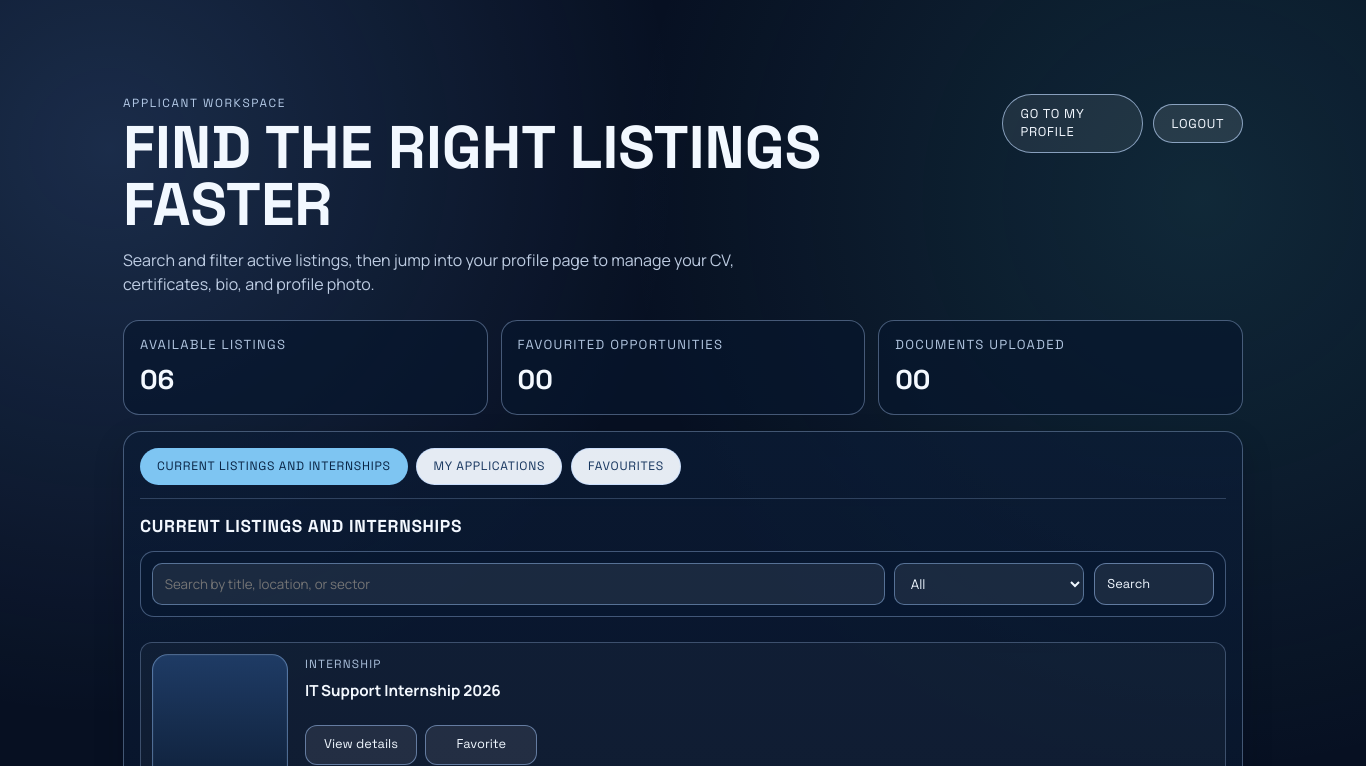
Test: Applicant search listings › restores the full approved listings list after clearing the search and resetting the filter
Type "electrical" into the search field with placeholder "Search by title, location, or sector" at (518, 584), box [152,563,885,605]
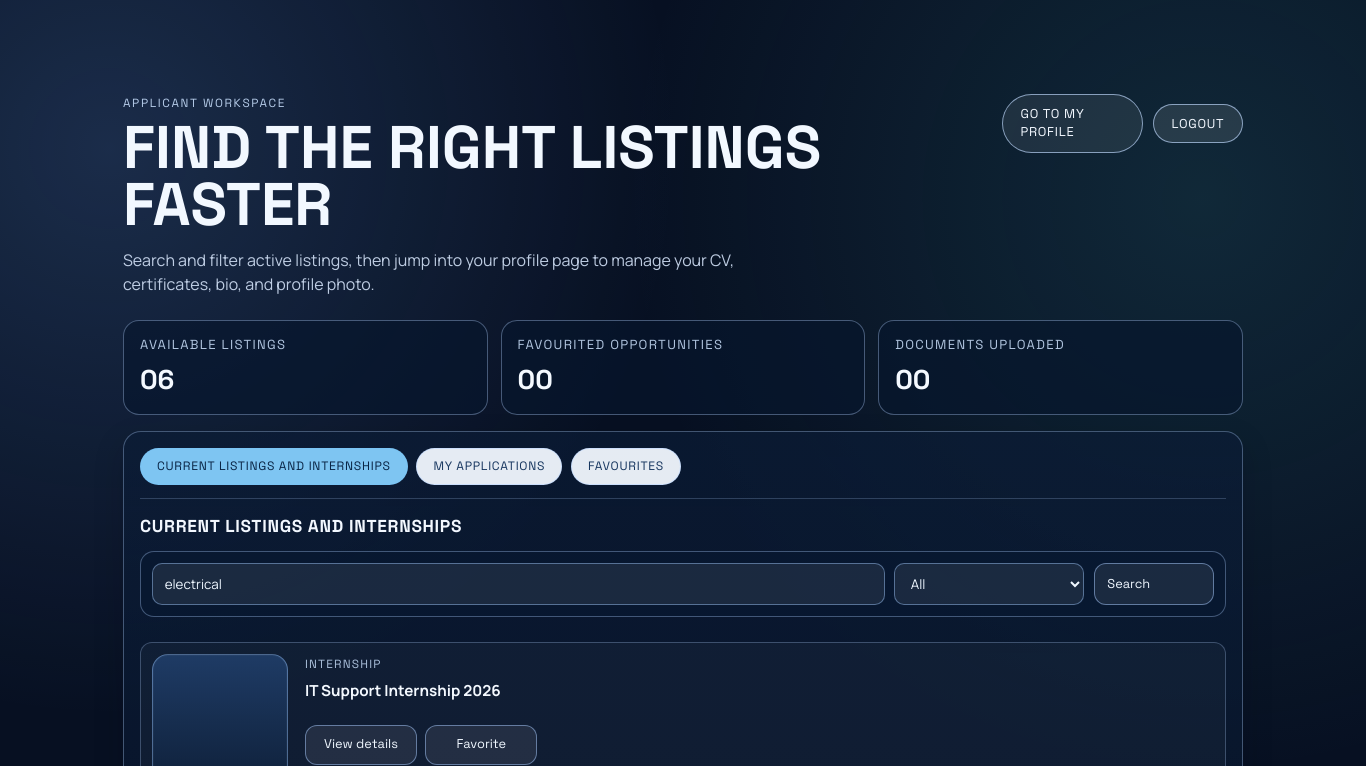
Select "Apprenticeship" in the dropdown named "Filter listing type" at (989, 584), box [894,563,1084,605]
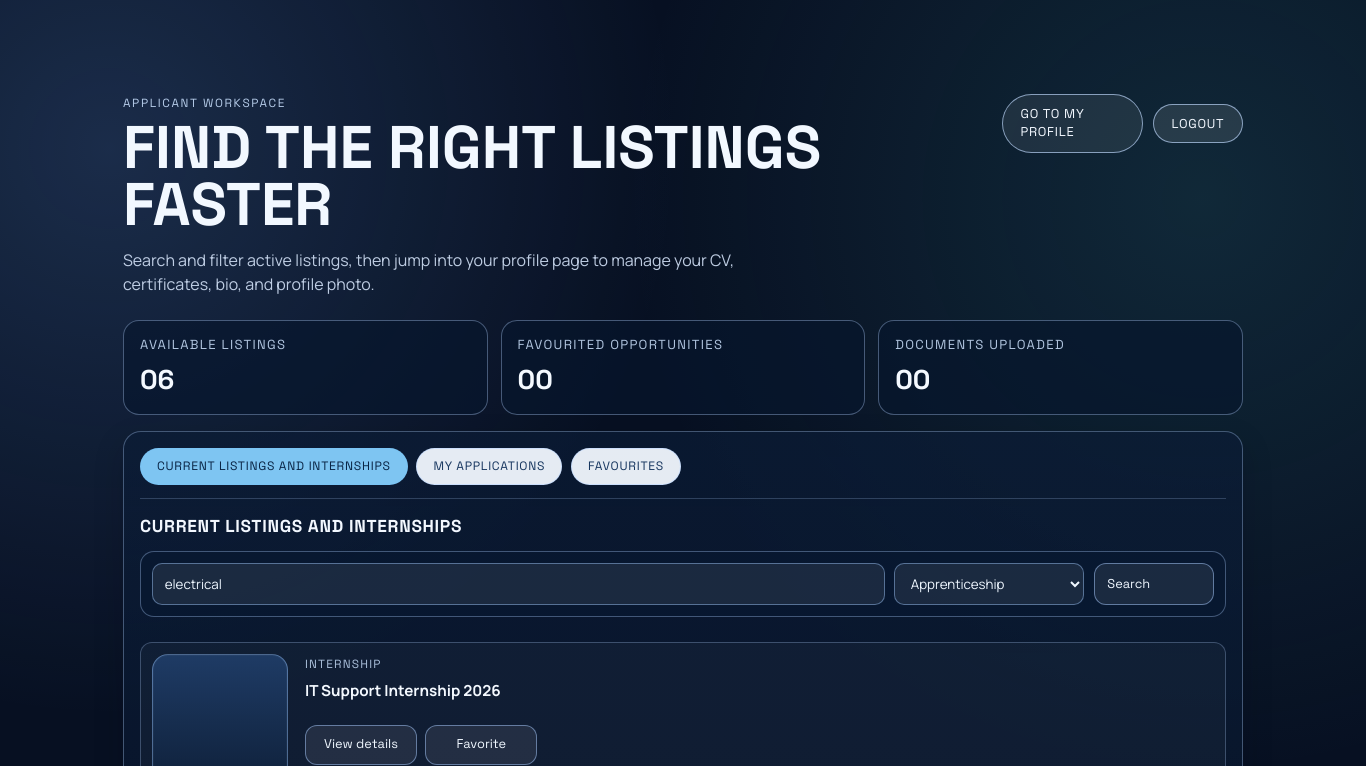
Click the button "Search" at (1154, 584), box [1094,563,1214,605]
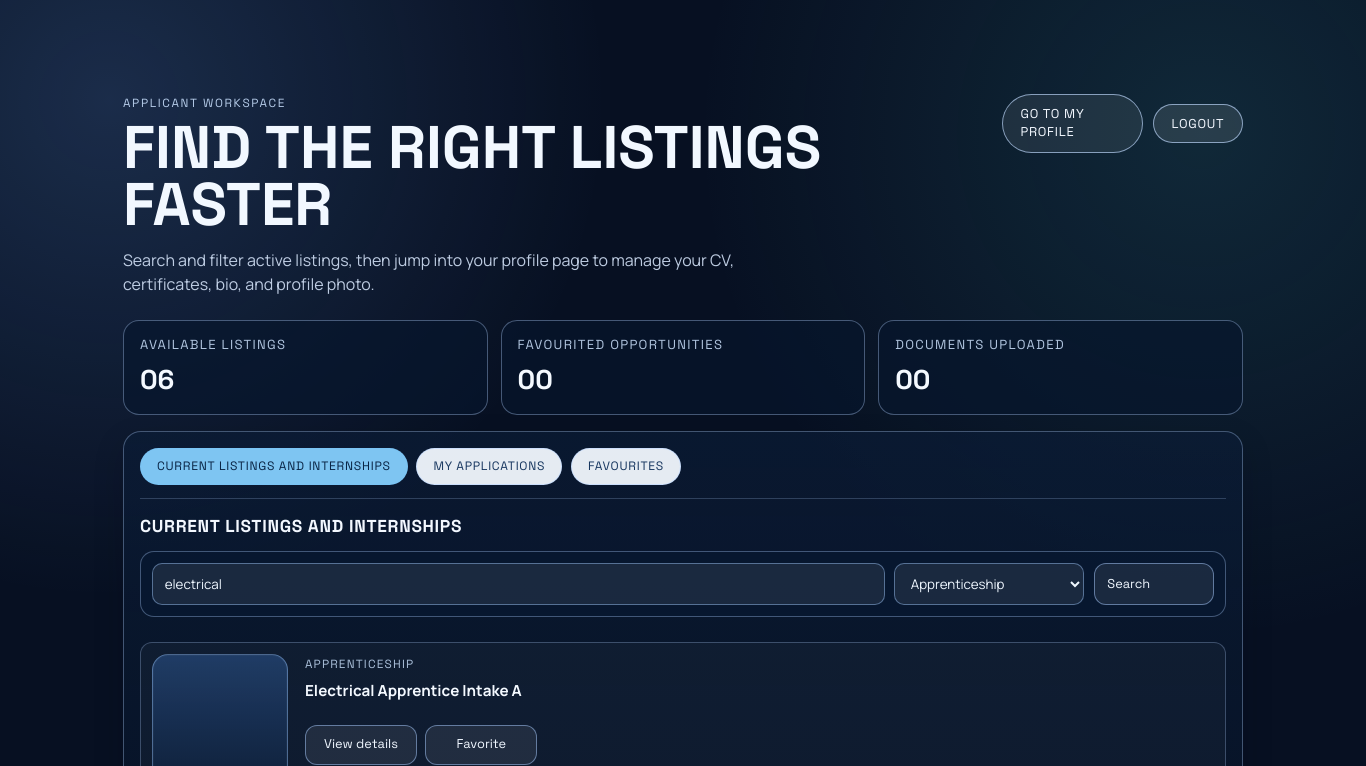
Clear the search field with placeholder "Search by title, location, or sector" at (518, 584), box [152,563,885,605]
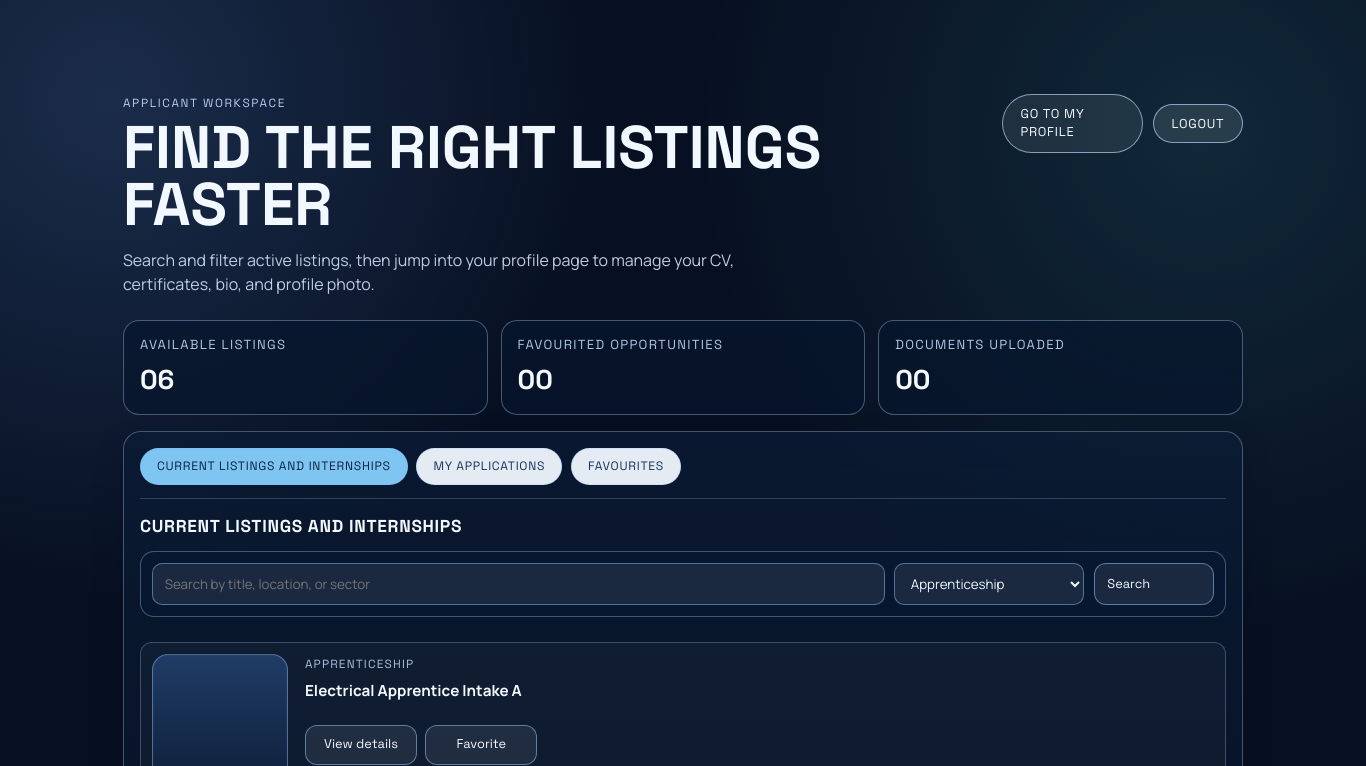
Select "All" in the dropdown named "Filter listing type" at (989, 584), box [894,563,1084,605]
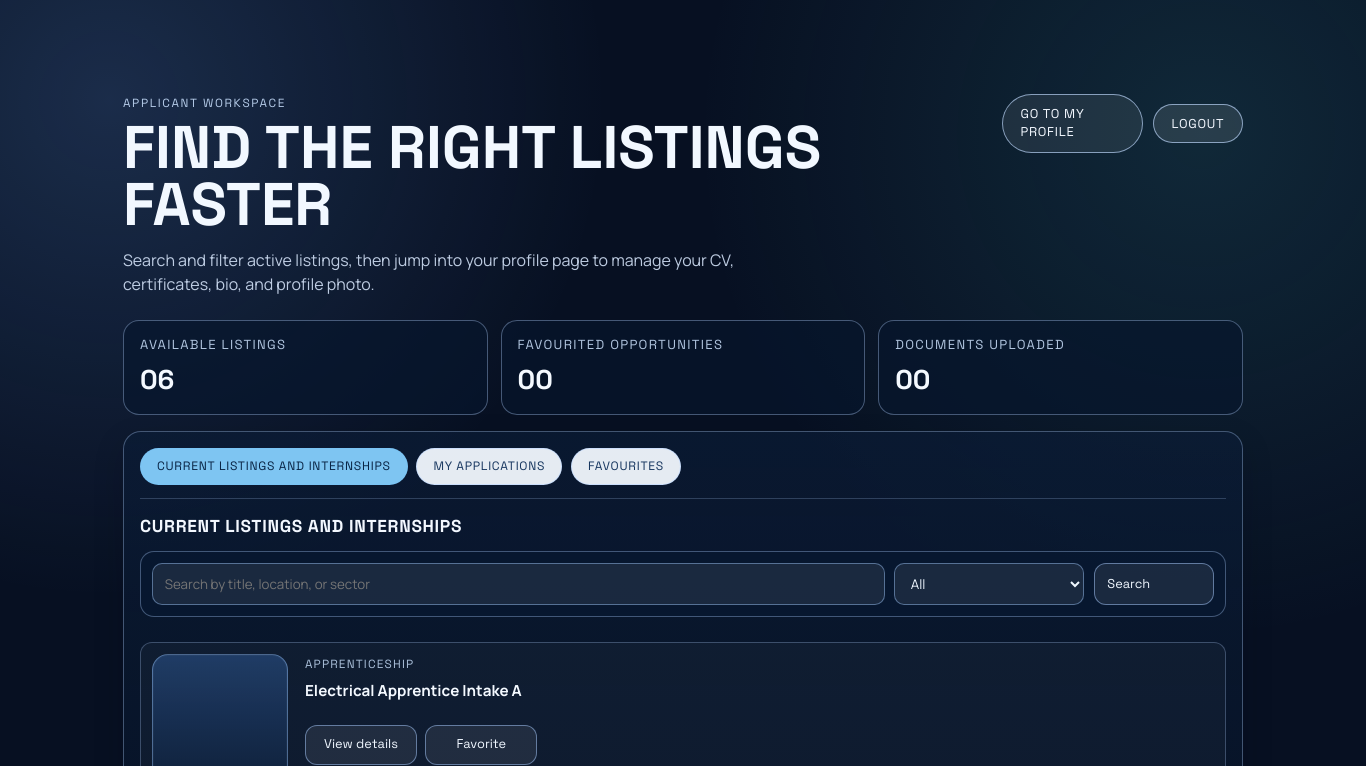
Click the button "Search" at (1154, 584), box [1094,563,1214,605]
(page scrolled)
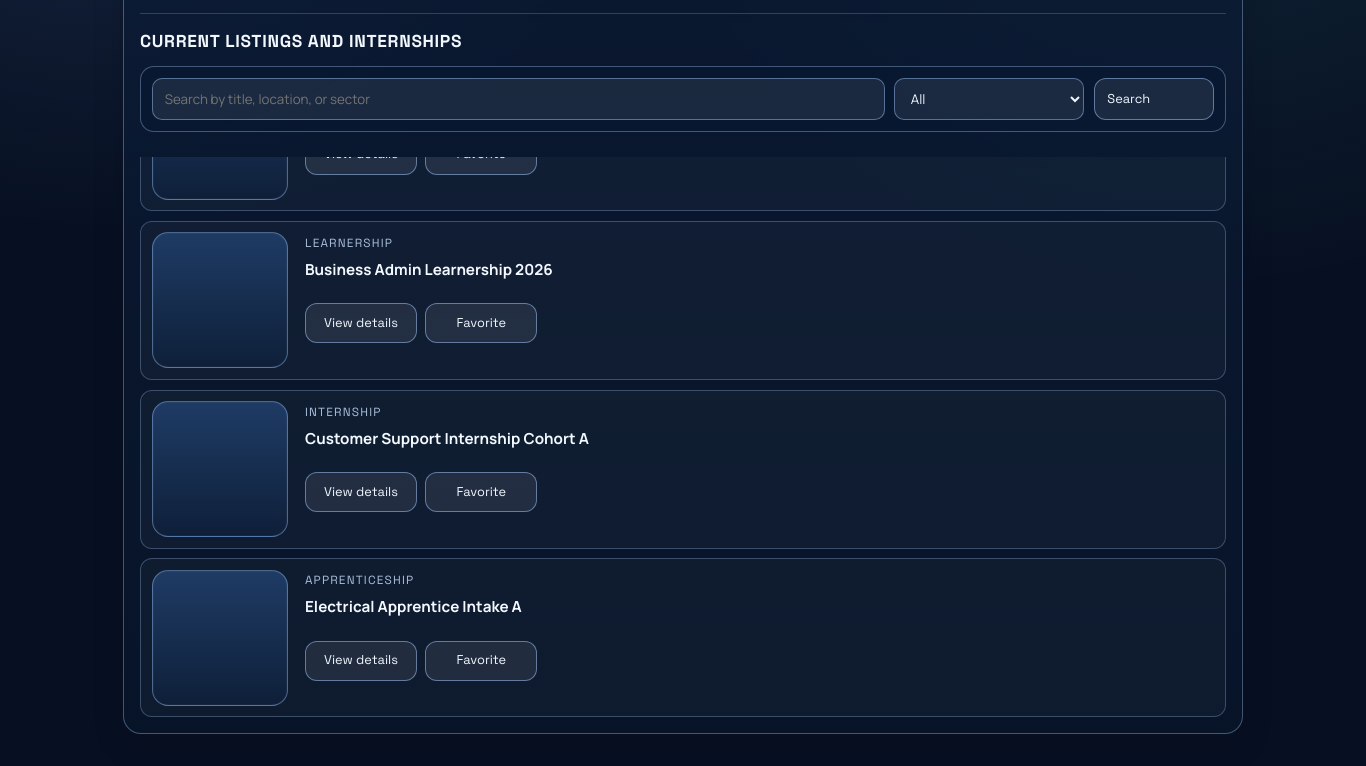
Expected: the text "Electrical Apprentice Intake A" is shown, [305,596,522,617]
Expected: the text "Business Admin Learnership 2026" is shown, [305,259,553,280]
Expected: the text "Customer Support Internship Cohort A" is shown, [305,428,589,449]
